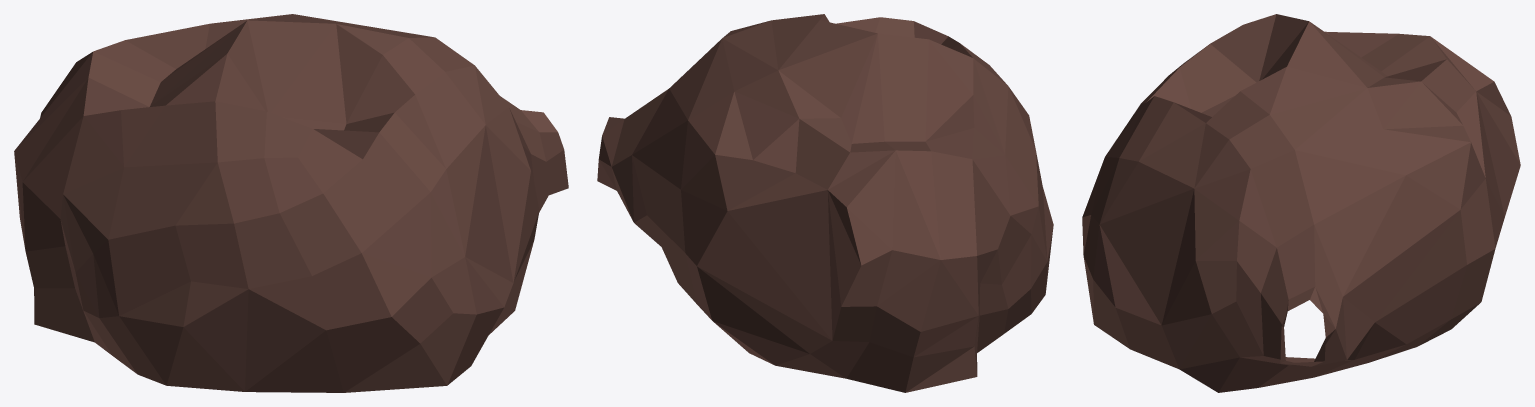
File: Dome-1exit-06.fbx
The picture shows the model from 3 angles, left to right: view 1: azimuth 30°, elevation 25°; view 2: azimuth 150°, elevation 25°; view 3: azimuth 270°, elevation 25°; orthographic projection. The views are drawn at different scales.
Visible parts, largest first — view 1: Dome-1exit-06; view 2: Dome-1exit-06; view 3: Dome-1exit-06.
Part boxes in pixels (bbox=[...]): Dome-1exit-06: bbox=[14, 14, 568, 392]; Dome-1exit-06: bbox=[597, 14, 1053, 392]; Dome-1exit-06: bbox=[1082, 14, 1520, 392].
Bounding box in the file's own units: 1746 × 1958 × 1239.
